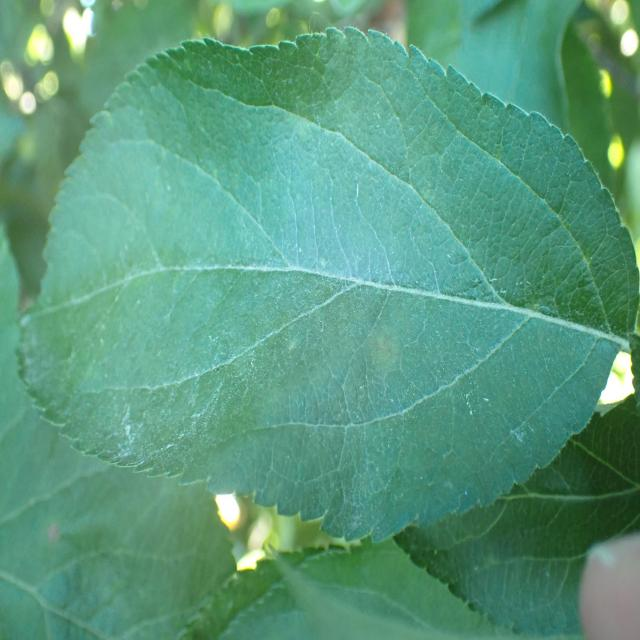scab: (80, 149, 589, 489)
